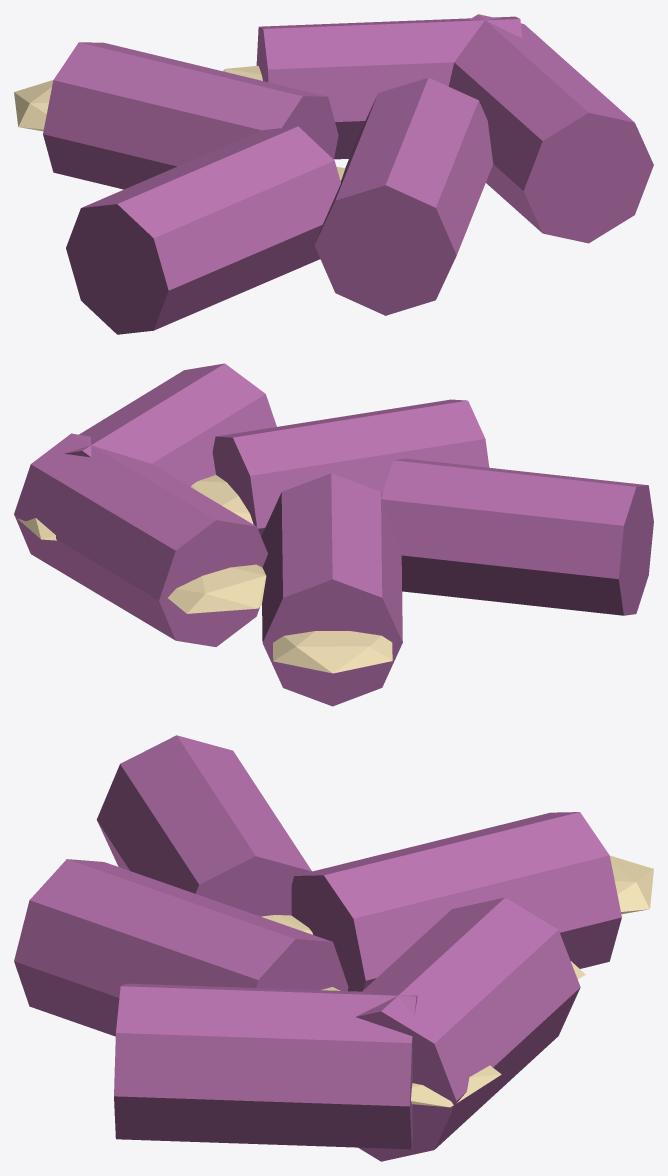
File: FTF_Ingredient_Chopped_Sugarcane.glb
The picture shows the model from 3 angles, top to bottom: view 1: azimuth 30°, elevation 25°; view 2: azimuth 150°, elevation 25°; view 3: azimuth 270°, elevation 25°; orthographic projection. The views are drawn at different scales.
Visible parts, largest first — view 1: Sugarcane_Segment_00, Sugarcane_CutFace_00; view 2: Sugarcane_Segment_00, Sugarcane_CutFace_00; view 3: Sugarcane_Segment_00, Sugarcane_CutFace_00.
Boxes of the visible parts, <box> form: Sugarcane_Segment_00: <box>43,14,653,334</box>; Sugarcane_CutFace_00: <box>14,65,345,180</box>; Sugarcane_Segment_00: <box>14,363,653,706</box>; Sugarcane_CutFace_00: <box>14,475,392,673</box>; Sugarcane_Segment_00: <box>14,735,621,1161</box>; Sugarcane_CutFace_00: <box>261,855,653,1107</box>.
Size of the model in its own units: 0.8276 by 0.19 by 0.7329.
